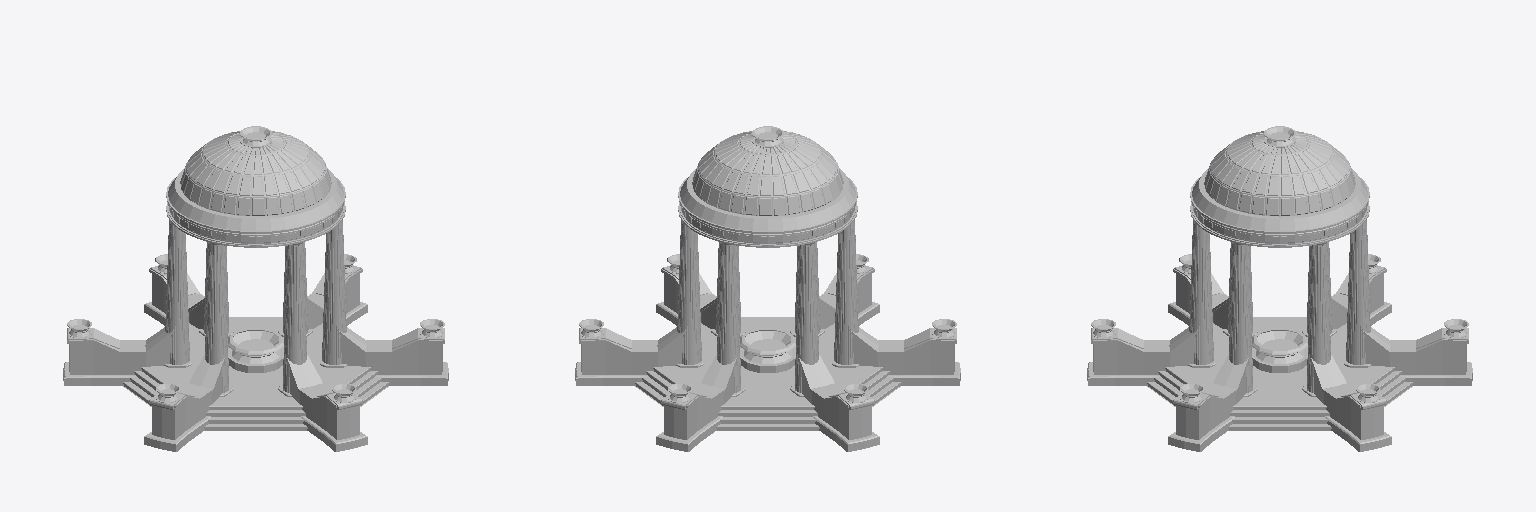
File: GreekMiracleSiteTestFixedHeight2.obj
The picture shows the model from 3 angles: view 1: azimuth 30°, elevation 25°; view 2: azimuth 150°, elevation 25°; view 3: azimuth 270°, elevation 25°; orthographic projection.
Visible parts, largest first — view 1: ExtraMiracles_Circle.012; view 2: ExtraMiracles_Circle.012; view 3: ExtraMiracles_Circle.012.
Boxes of the visible parts, x1,y1,x2,y2 form: ExtraMiracles_Circle.012: [63, 126, 448, 451]; ExtraMiracles_Circle.012: [575, 126, 960, 451]; ExtraMiracles_Circle.012: [1087, 126, 1472, 451].
Size of the model in its own units: 25.89 by 20.04 by 28.51.